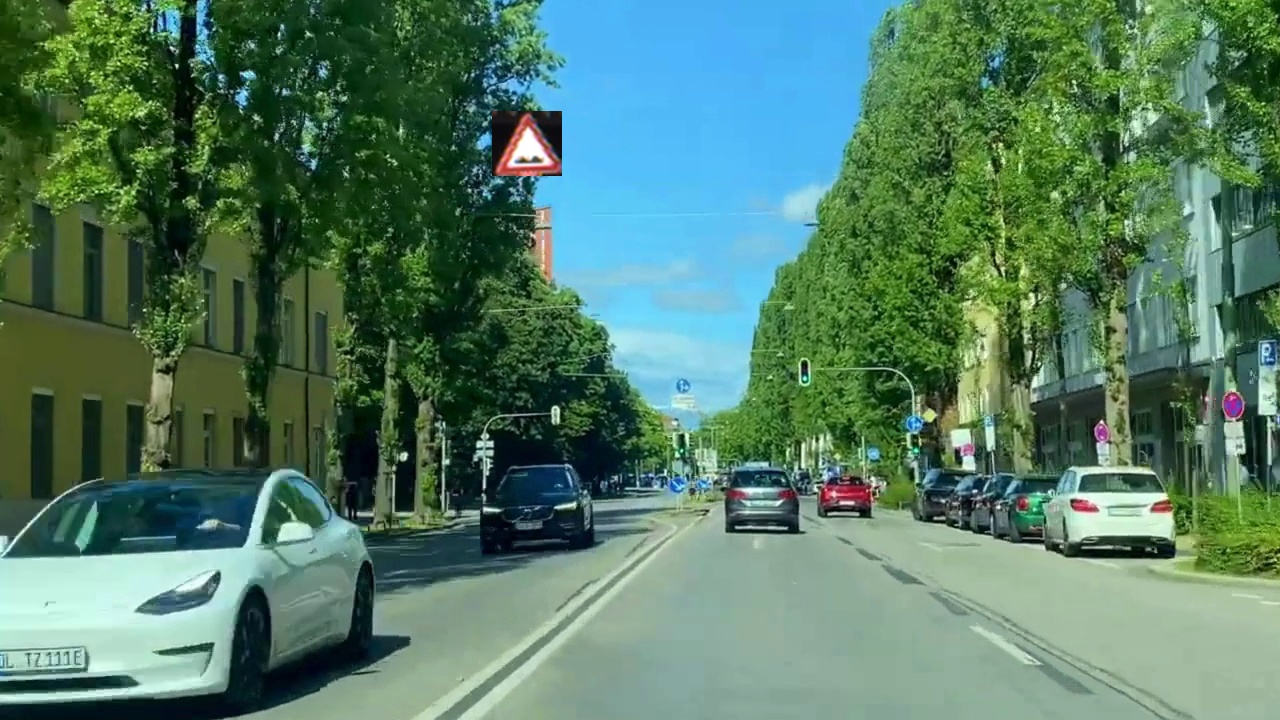Bumpy road: (492, 111, 562, 176)
